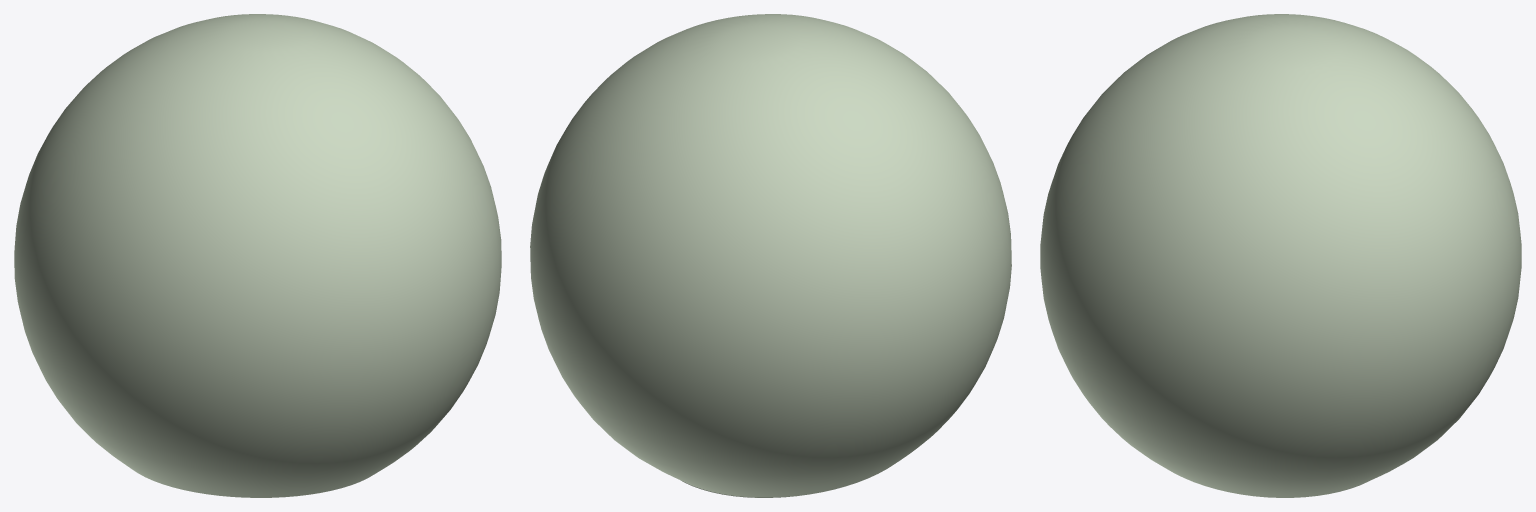
3 renders of one model, left to right at view 1: azimuth 30°, elevation 25°; view 2: azimuth 150°, elevation 25°; view 3: azimuth 270°, elevation 25°, orthographic.
Visible parts, largest first — view 1: 右侧巩膜; view 2: 右侧巩膜; view 3: 右侧巩膜.
Part boxes in pixels (<box>): 右侧巩膜: <box>14,14,501,497</box>; 右侧巩膜: <box>530,14,1011,497</box>; 右侧巩膜: <box>1040,14,1521,497</box>.
Bounding box in the file's own units: 0.0387 × 0.0368 × 0.0387.
